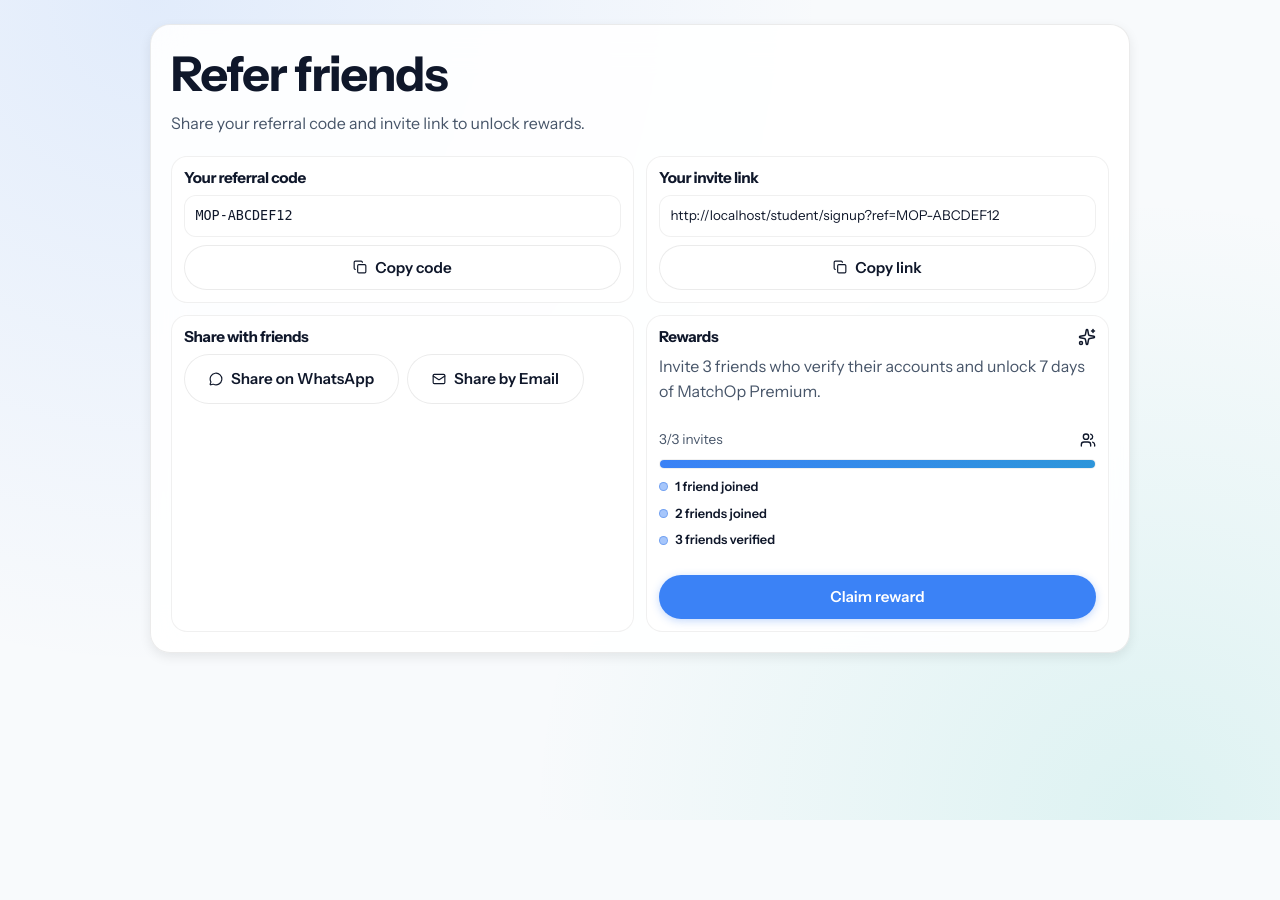
Test: Referrals (Server-Authoritative) › shows claim button when server reports 3 qualifying referrals and claims successfully
Click the button with test id "claim-reward-button". click: (878, 597)
box: left=659, top=575, right=1096, bottom=619
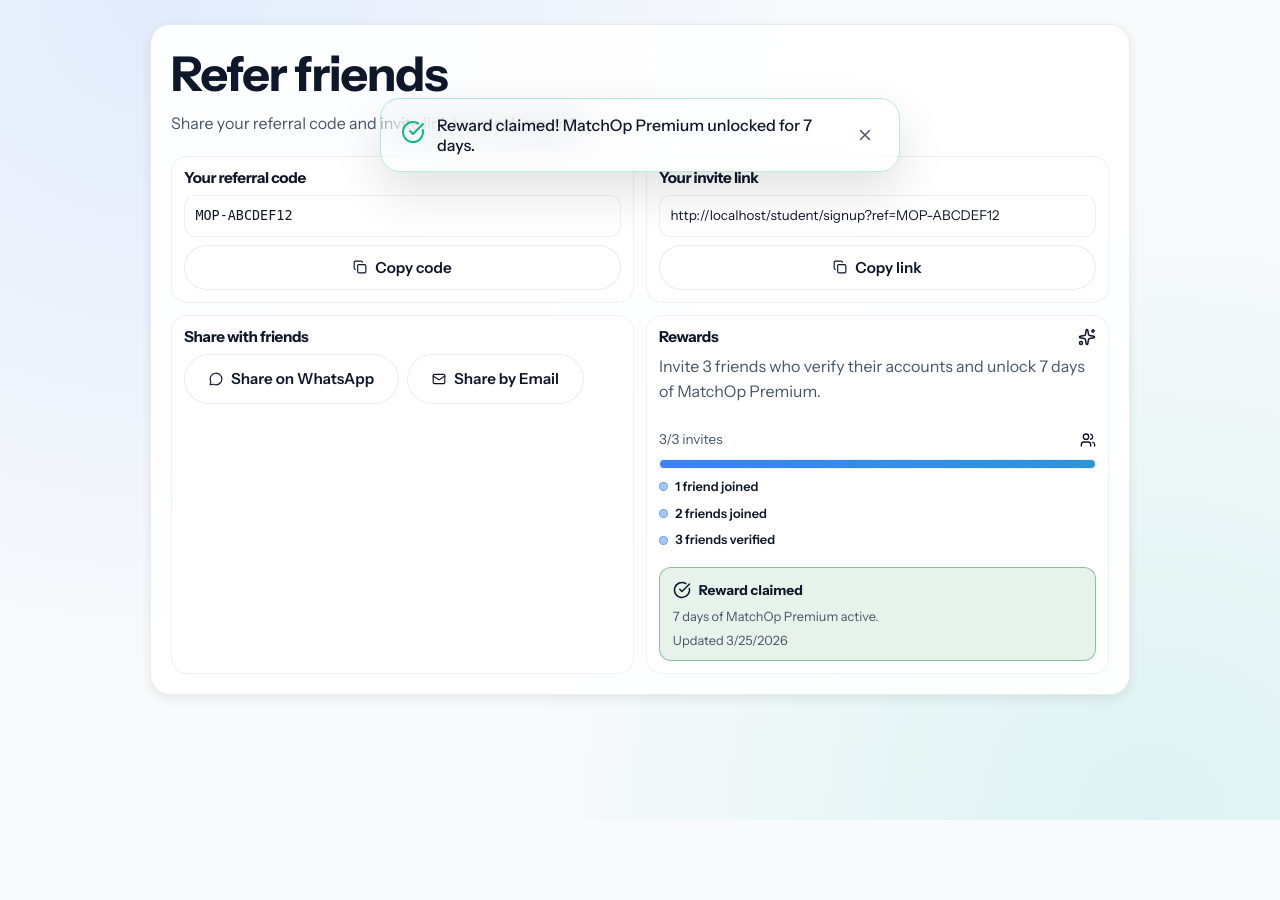
Expected: the element with test id "reward-claimed-state" is shown, left=659, top=567, right=1096, bottom=661
